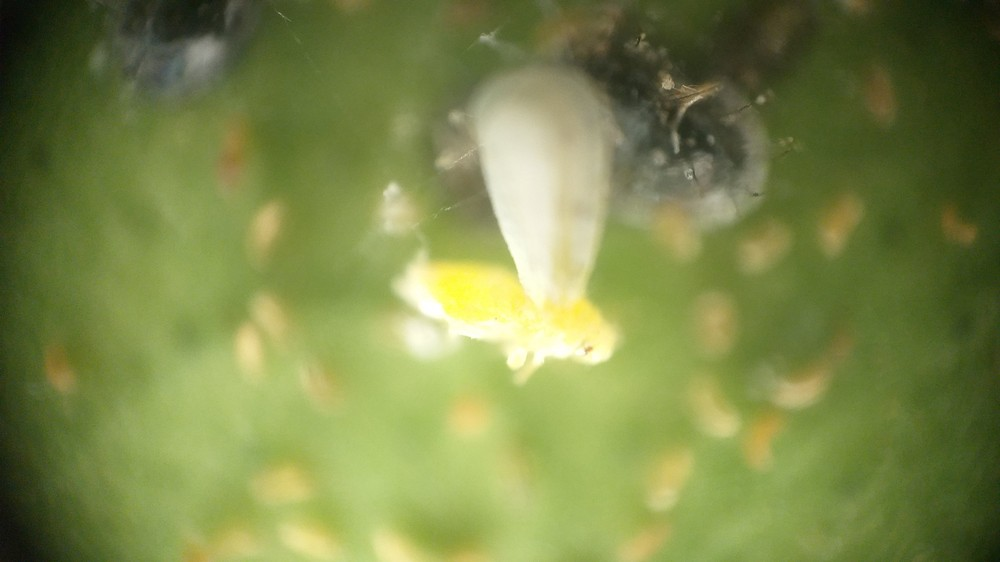Mosca Blanca: (395, 72, 638, 397)
